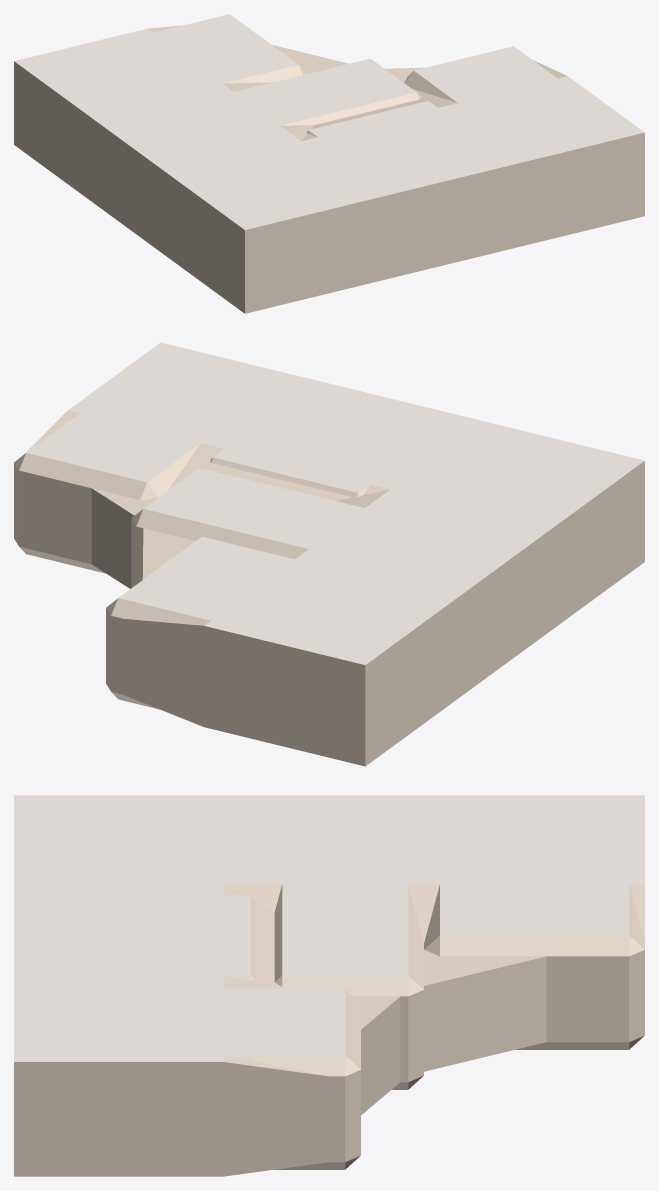
3 views of the same model, one above another, from view 1: azimuth 30°, elevation 25°; view 2: azimuth 150°, elevation 25°; view 3: azimuth 270°, elevation 25° (orthographic). The views are drawn at different scales.
Parts seen in each view (by area): view 1: object1.007; view 2: object1.007; view 3: object1.007.
Boxes of the visible parts, <box> form: object1.007: <box>14,14,644,313</box>; object1.007: <box>14,342,644,766</box>; object1.007: <box>14,795,644,1176</box>.
Bounding box in the file's own units: 1 × 0.2 × 1.
